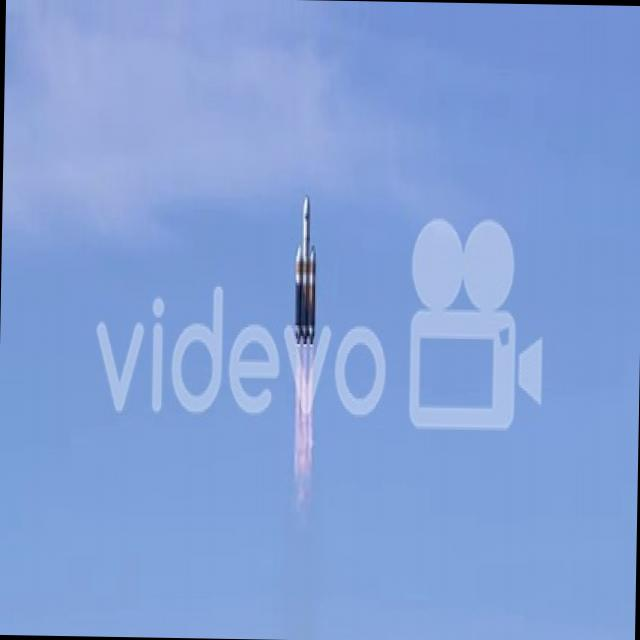rocket: (291, 195, 321, 385)
